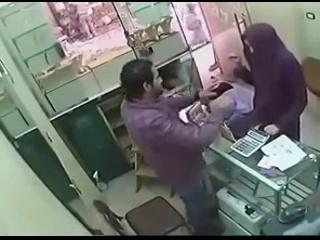Normal: (120, 58, 236, 234), (93, 196, 193, 236), (230, 126, 271, 158)
